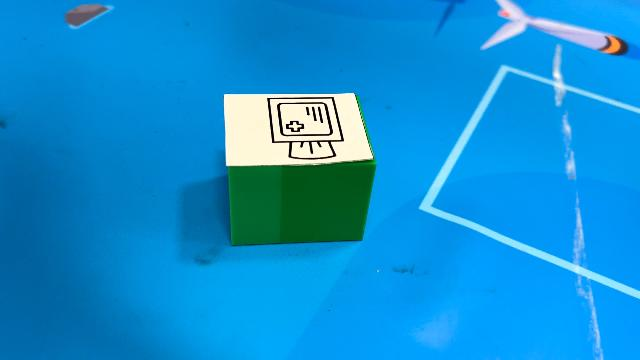napkin: (222, 91, 378, 247)
